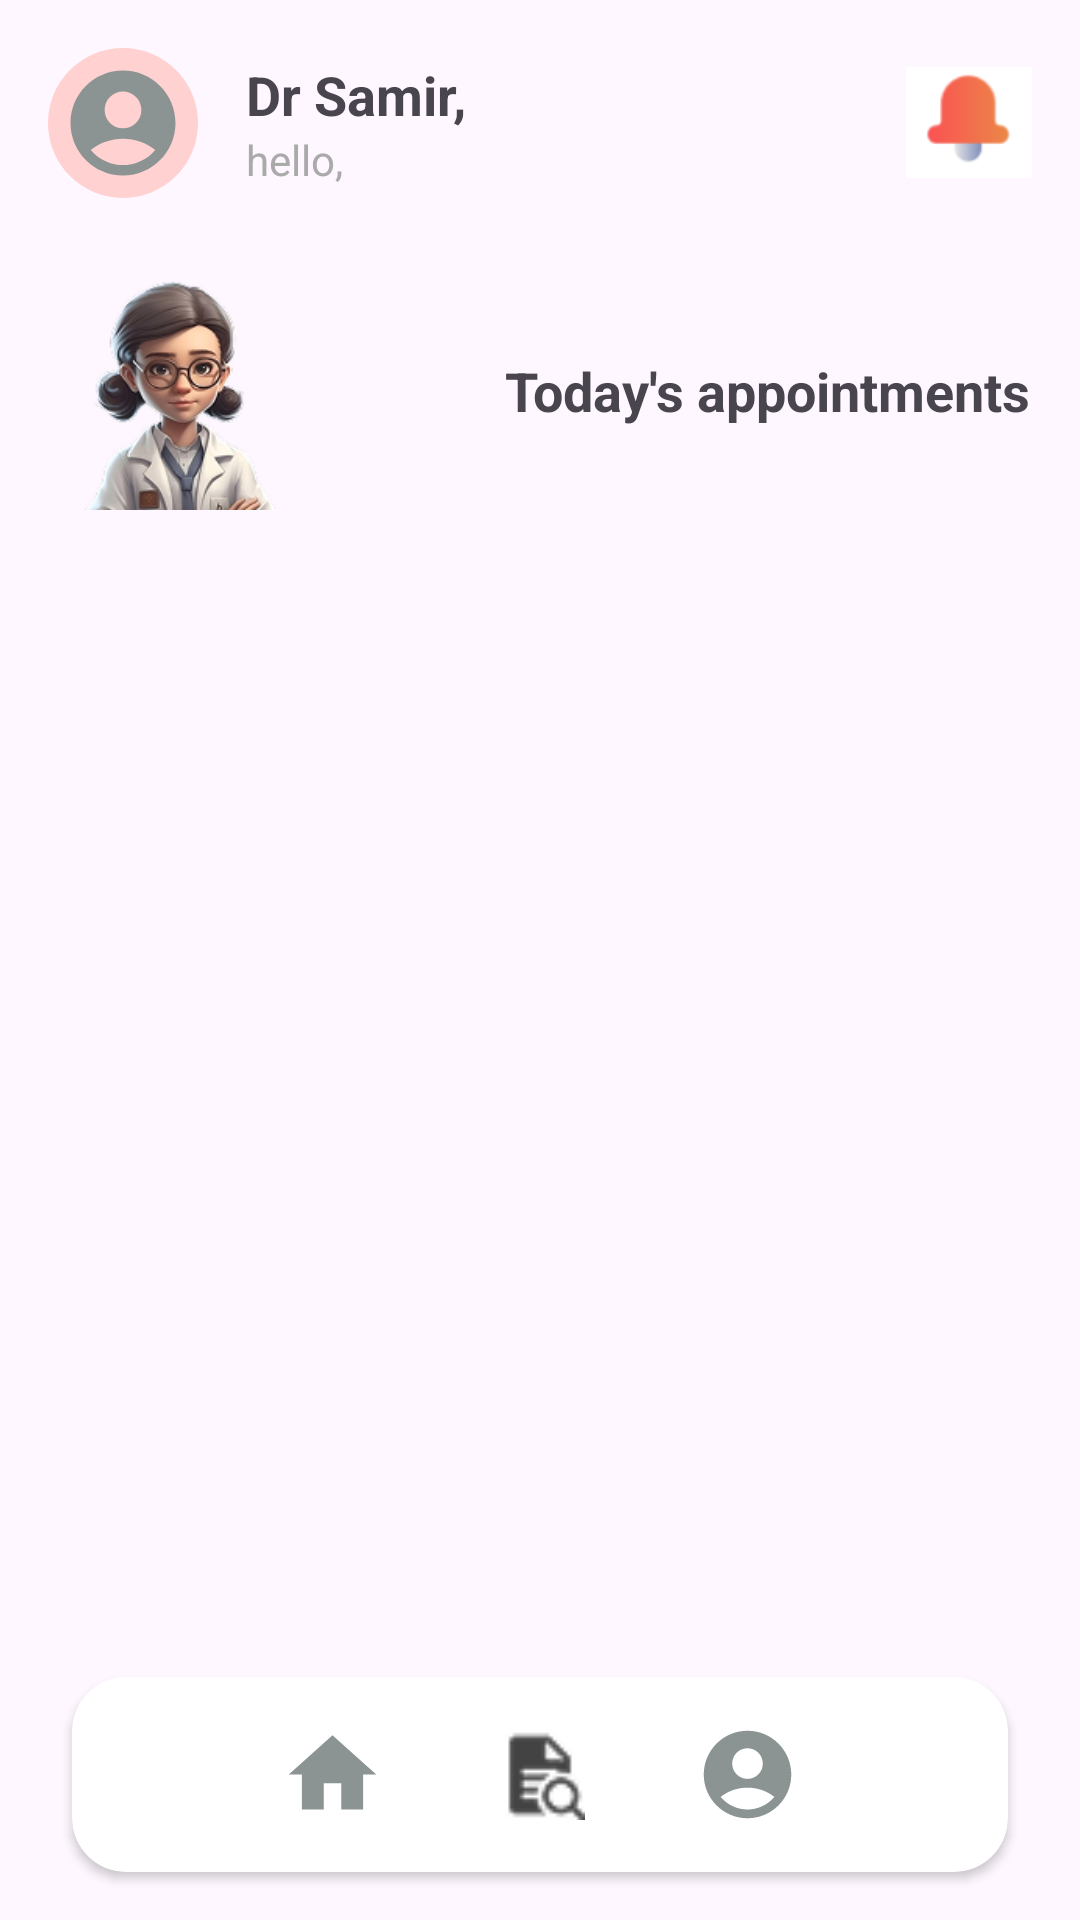

Icons on this 1080 × 1920 Android screen, each with the point to tap as (x,y):
analyze: (546,1776)
home: (332,1772)
notification: (968,118)
profile: (123,123), (747,1774)
